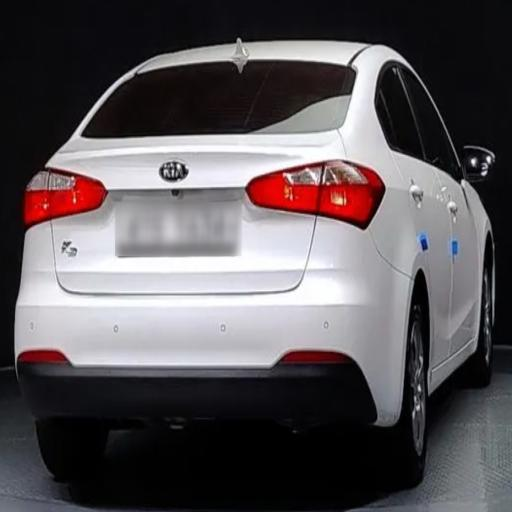normal: (9, 22, 508, 500)
